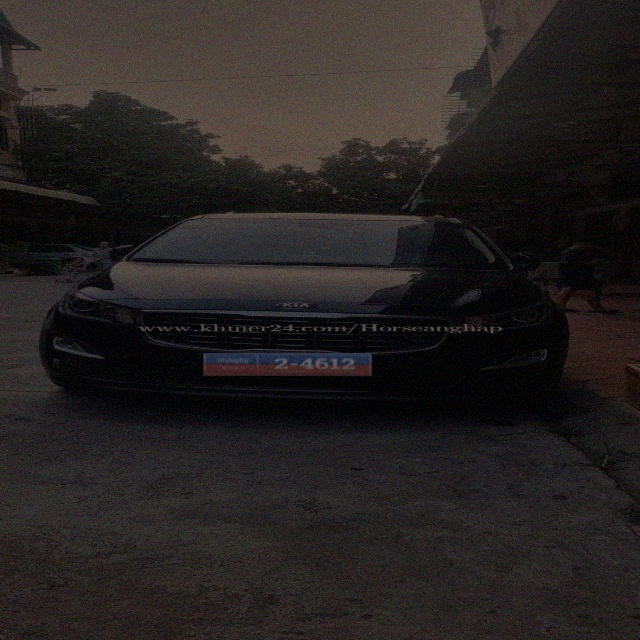Plate Number: (204, 353, 372, 376)
